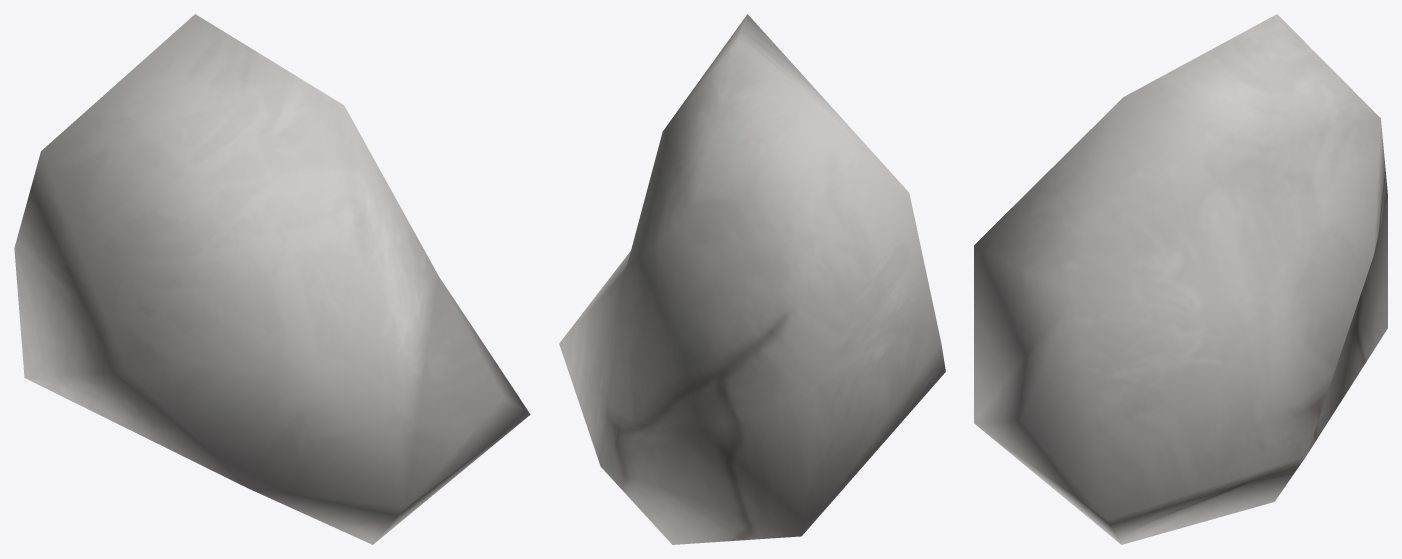
File: Rock3.FBX
3 renders of one model, left to right at view 1: azimuth 30°, elevation 25°; view 2: azimuth 150°, elevation 25°; view 3: azimuth 270°, elevation 25°, orthographic. The views are drawn at different scales.
Visible parts, largest first — view 1: Box002; view 2: Box002; view 3: Box002.
Boxes of the visible parts, bbox=[...] form: Box002: bbox=[14, 14, 530, 544]; Box002: bbox=[559, 14, 945, 544]; Box002: bbox=[974, 14, 1387, 544].
Bounding box in the file's own units: 54.43 × 64.12 × 49.65.
Materials: 1 (1 with a texture image).
